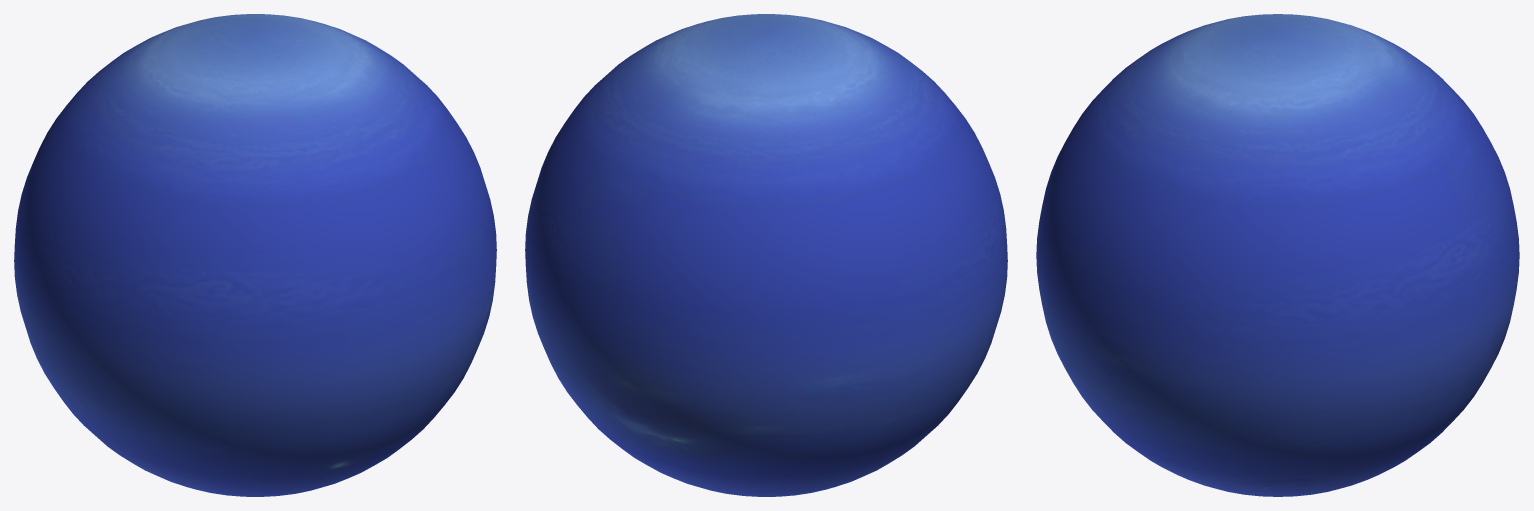
3 views of the same model, side by side, from view 1: azimuth 30°, elevation 25°; view 2: azimuth 150°, elevation 25°; view 3: azimuth 270°, elevation 25° (orthographic).
Parts seen in each view (by area): view 1: neptune_GEO_n3d; view 2: neptune_GEO_n3d; view 3: neptune_GEO_n3d.
Boxes of the visible parts, x1,y1,x2,y2 form: neptune_GEO_n3d: [14, 14, 496, 496]; neptune_GEO_n3d: [525, 14, 1007, 496]; neptune_GEO_n3d: [1036, 14, 1519, 496].
Bounding box in the file's own units: 0.0911 × 0.0911 × 0.0911.
Materials: 1 (1 with a texture image).
